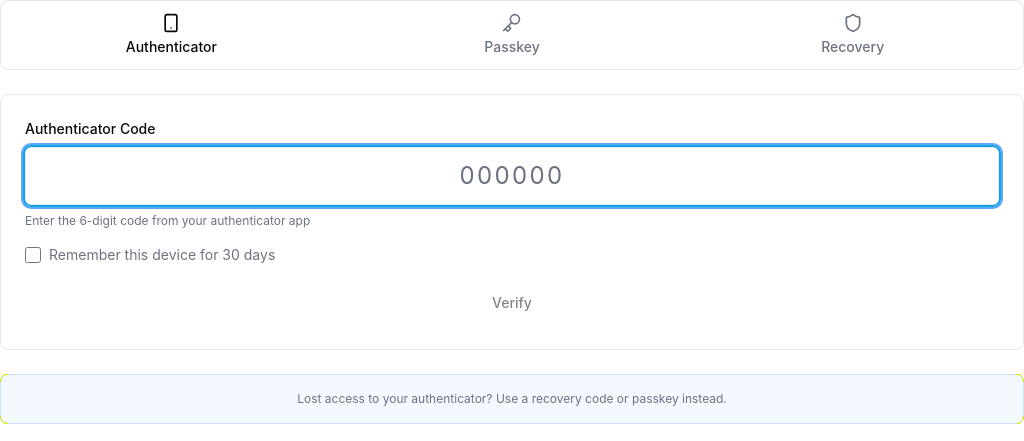
Test: TwoFactorVerification › Method Switching › should switch to WebAuthn method when clicked
This screenshot has width=1024, height=441.
Click the button "Passkey" at x=512, y=35, box [346,5,678,65]
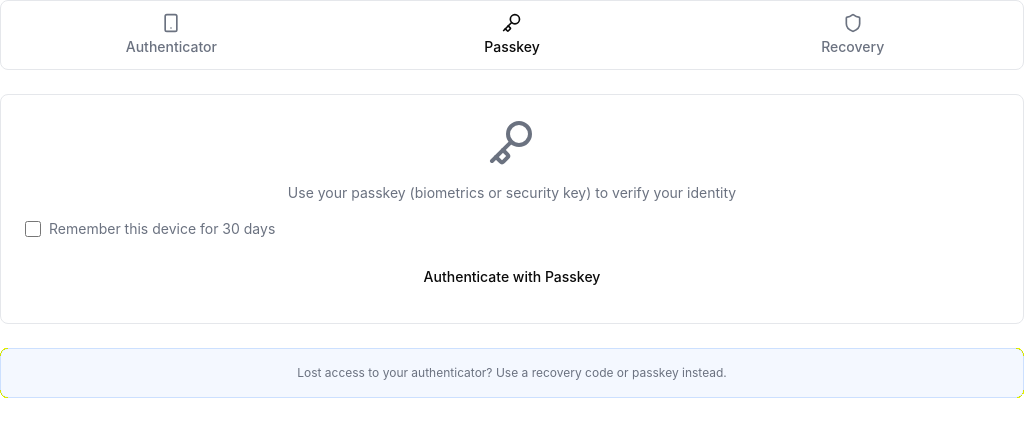
expect the text "Use your passkey" is shown: met, box [288,184,736,201]
expect the button "Authenticate with Passkey" is shown: met, box [25,255,999,299]
